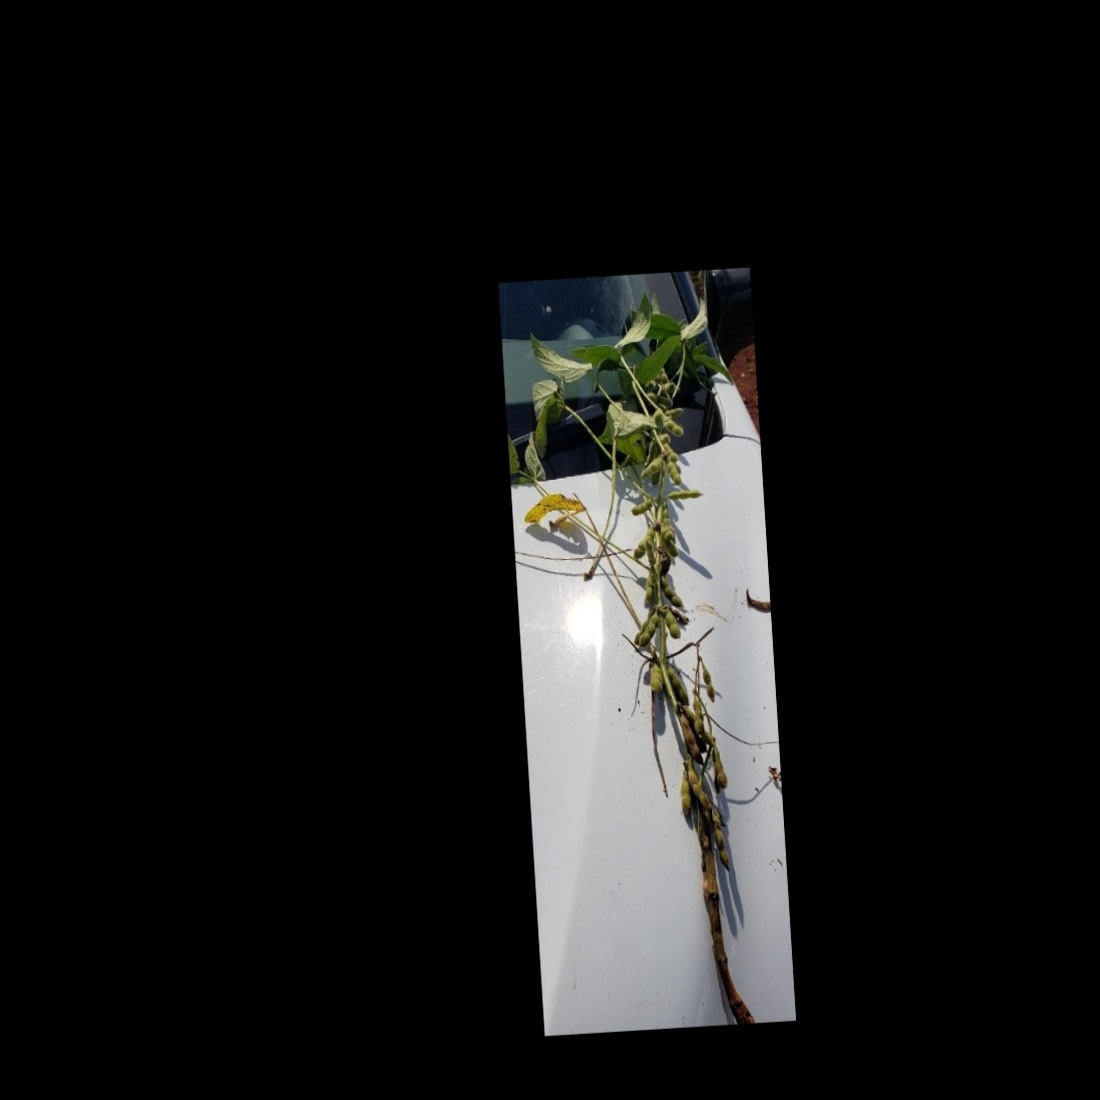pod: (709, 810, 737, 872), (680, 710, 707, 766), (683, 764, 712, 812), (634, 607, 663, 650), (656, 574, 684, 610), (663, 483, 705, 504), (709, 747, 729, 791), (699, 660, 718, 705), (664, 606, 684, 644), (646, 661, 667, 695), (677, 779, 694, 818), (627, 495, 655, 517), (663, 458, 683, 488), (662, 416, 686, 439)
soy: (519, 293, 781, 1021)
